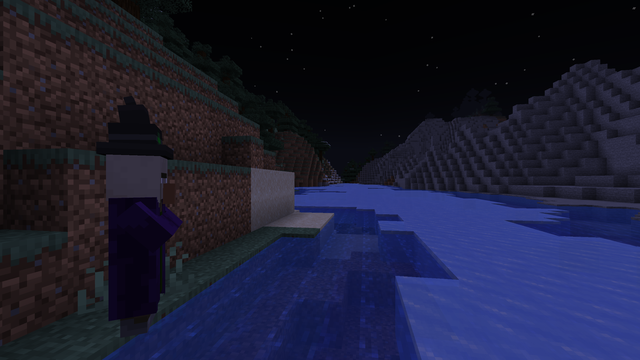sorcieres: (89, 146, 181, 342)
